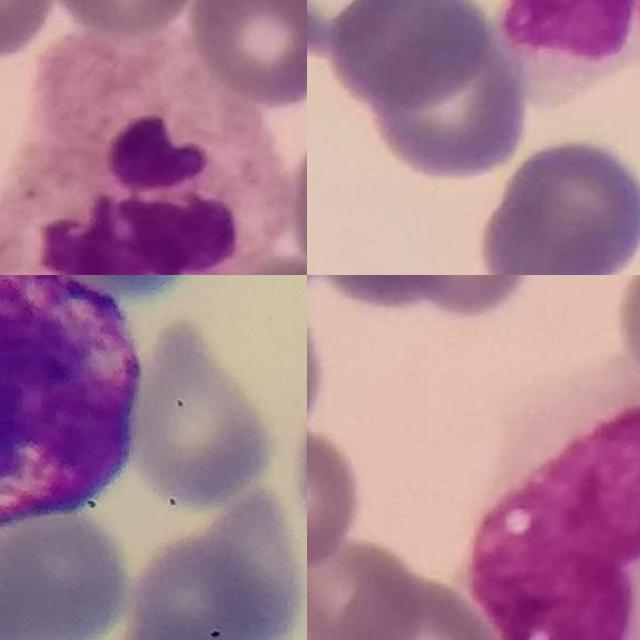Basophil: (0, 275, 145, 530)
Monocyte: (475, 369, 640, 640)
Neutrophil: (0, 32, 288, 275)
